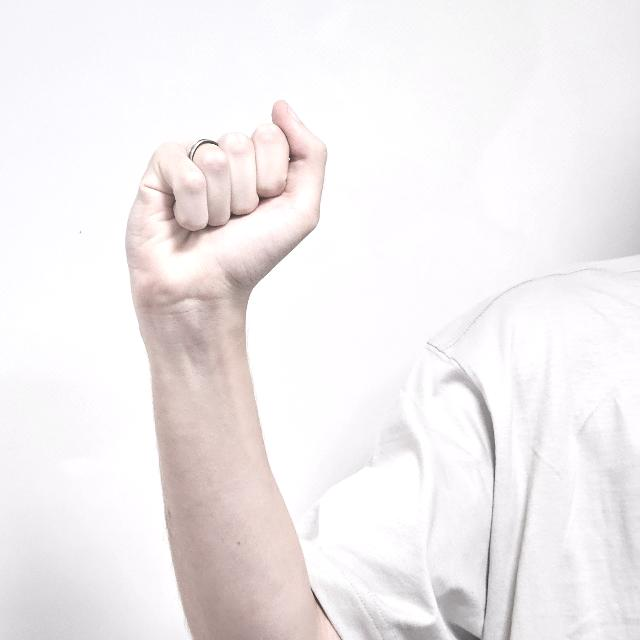Quadro: (128, 97, 328, 310)
